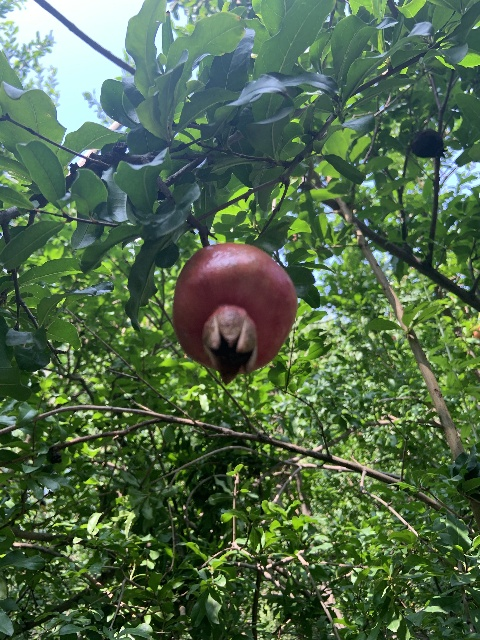ripe: (171, 242, 299, 381)
